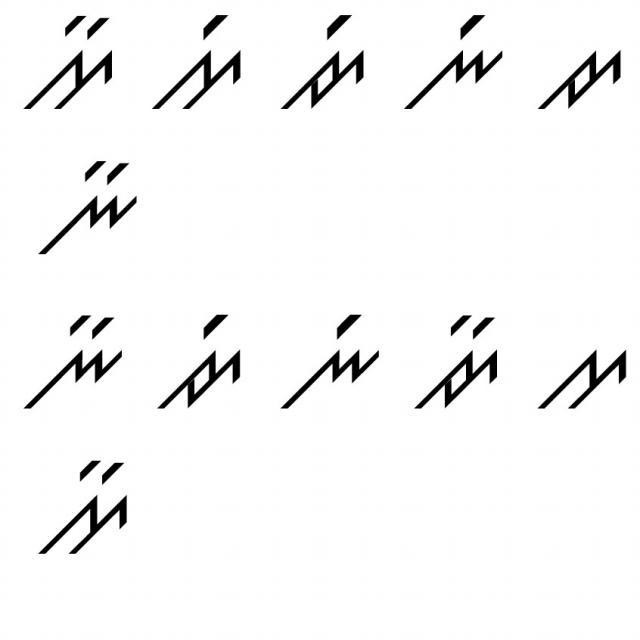ja: (537, 27, 629, 114)
jan: (400, 308, 506, 418)
jang: (149, 297, 248, 416), (276, 9, 368, 113)
nyan: (23, 151, 141, 259), (20, 306, 128, 418)
nyang: (279, 304, 381, 413), (400, 13, 507, 113)
sa: (534, 334, 636, 422)
san: (31, 452, 136, 559), (20, 8, 121, 117)
sang: (154, 8, 246, 114)
